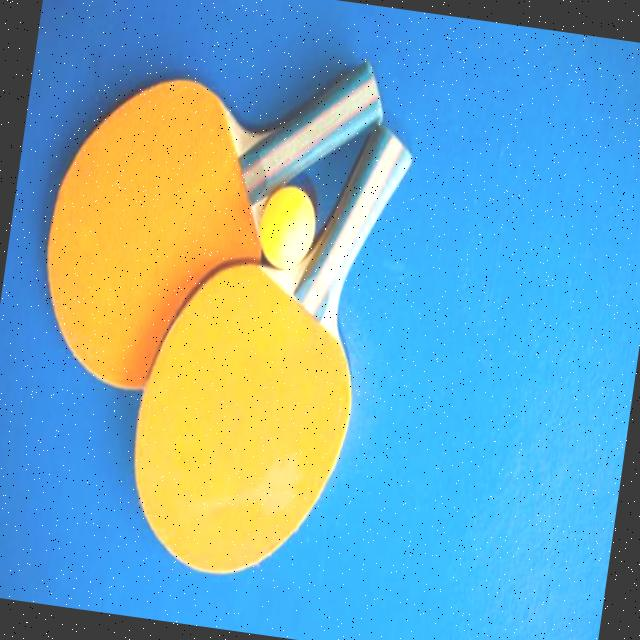ping-pong-ball: (253, 184, 320, 272)
